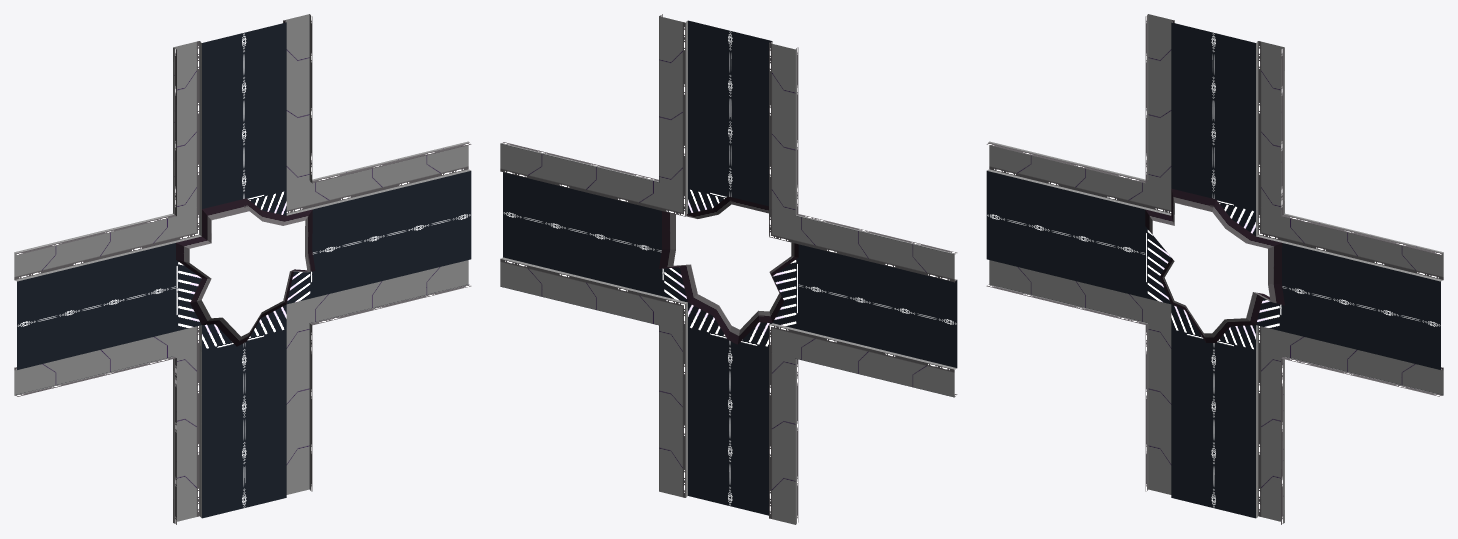
File: SM_S_BXroad.fbx
The picture shows the model from 3 angles, left to right: view 1: azimuth 30°, elevation 25°; view 2: azimuth 150°, elevation 25°; view 3: azimuth 330°, elevation 25°; orthographic projection.
Visible parts, largest first — view 1: SM_S_BXroad; view 2: SM_S_BXroad; view 3: SM_S_BXroad.
Part boxes in pixels (bbox=[...]): SM_S_BXroad: bbox=[14, 14, 471, 524]; SM_S_BXroad: bbox=[500, 14, 957, 524]; SM_S_BXroad: bbox=[986, 14, 1443, 524].
Bounding box in the file's own units: 9811 × 9811 × 229.
